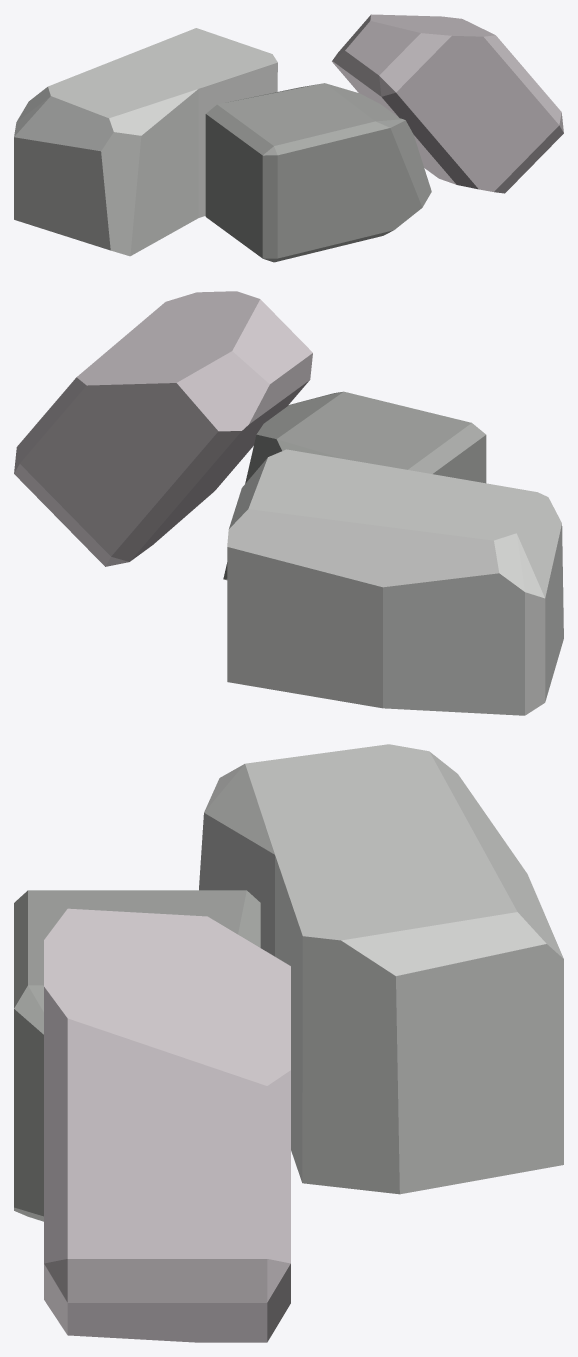
Rendered from Rock_Blocks_m_05.fbx.
The picture shows the model from 3 angles, top to bottom: view 1: azimuth 30°, elevation 25°; view 2: azimuth 150°, elevation 25°; view 3: azimuth 270°, elevation 25°; orthographic projection. The views are drawn at different scales.
Visible parts, largest first — view 1: Rock_Blocks_m_05; view 2: Rock_Blocks_m_05; view 3: Rock_Blocks_m_05.
Part boxes in pixels (x1,y1,x2,y2): Rock_Blocks_m_05: [14, 14, 563, 262]; Rock_Blocks_m_05: [14, 291, 563, 715]; Rock_Blocks_m_05: [14, 744, 563, 1342].
Size of the model in its own units: 260 by 104 by 140.
